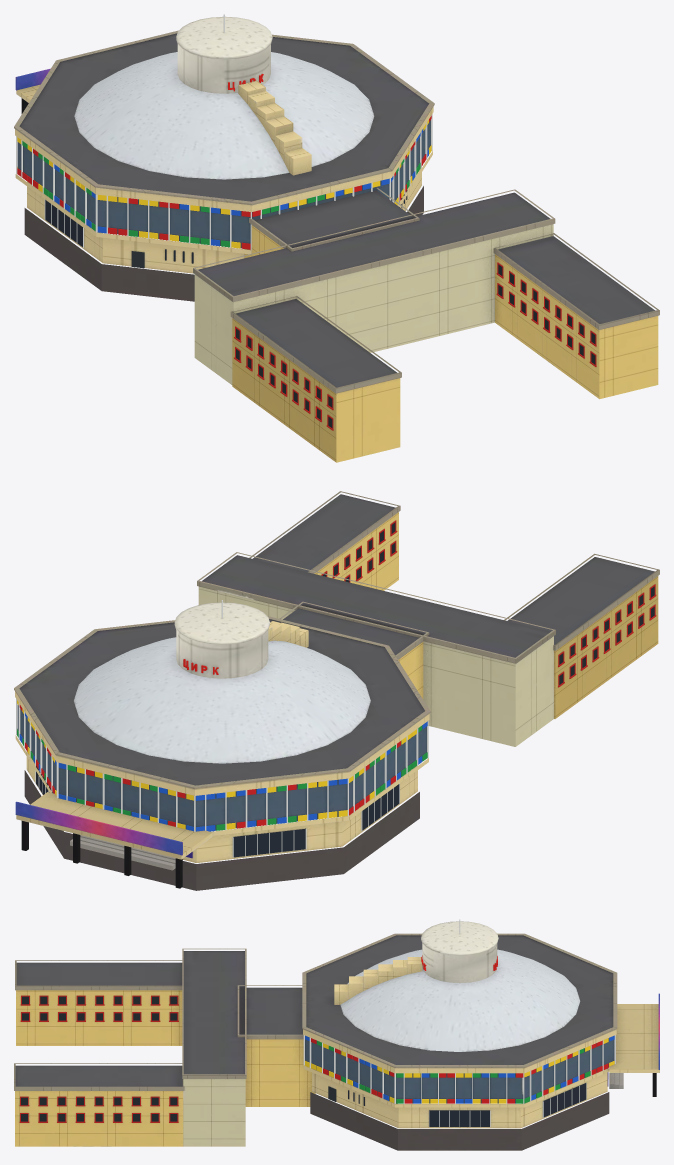
Rendered from circus_lod1.glb.
3 views of the same model, one above another, from view 1: azimuth 30°, elevation 25°; view 2: azimuth 150°, elevation 25°; view 3: azimuth 270°, elevation 25° (orthographic). The views are drawn at different scales.
Visible parts, largest first — view 1: circus_lod1; view 2: circus_lod1; view 3: circus_lod1.
Boxes of the visible parts, x1,y1,x2,y2 form: circus_lod1: [14, 14, 659, 462]; circus_lod1: [14, 491, 659, 890]; circus_lod1: [14, 919, 659, 1150].
Size of the model in its own units: 59 by 34.73 by 121.
Materials: 4 (4 with a texture image).
